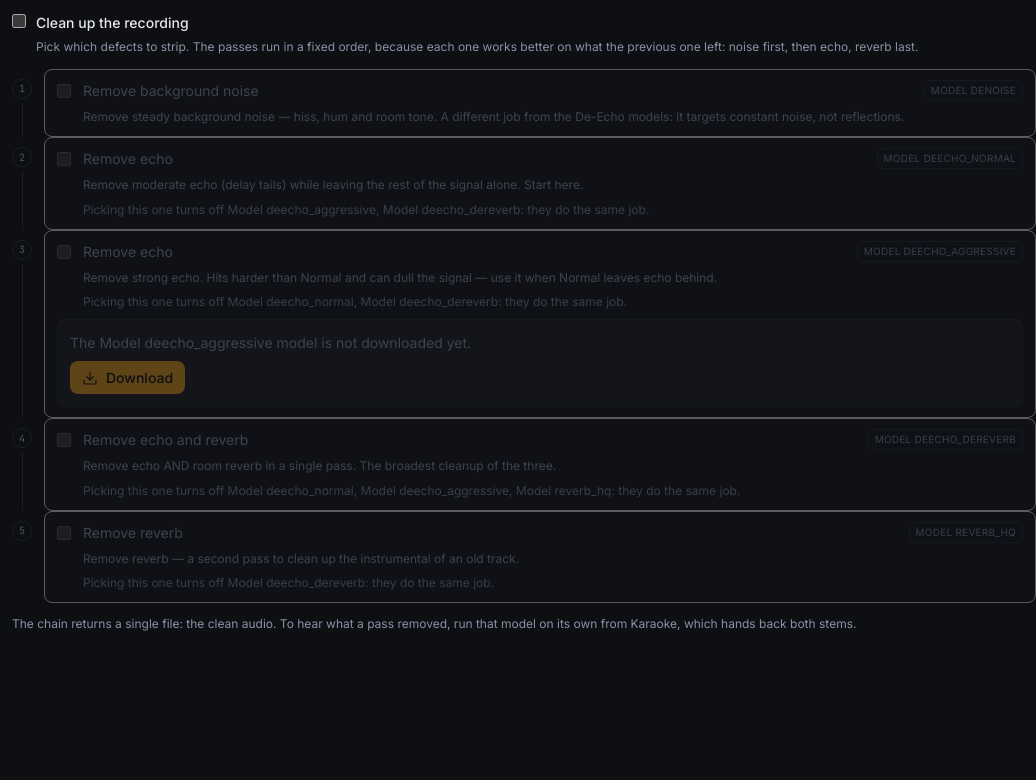
Test: CleanupChainPanel › warns from the third pass on, without blocking it
Click the checkbox labelled "Clean up the recording".
click(19, 21)  # box top-left (12, 14), bottom-right (26, 28)
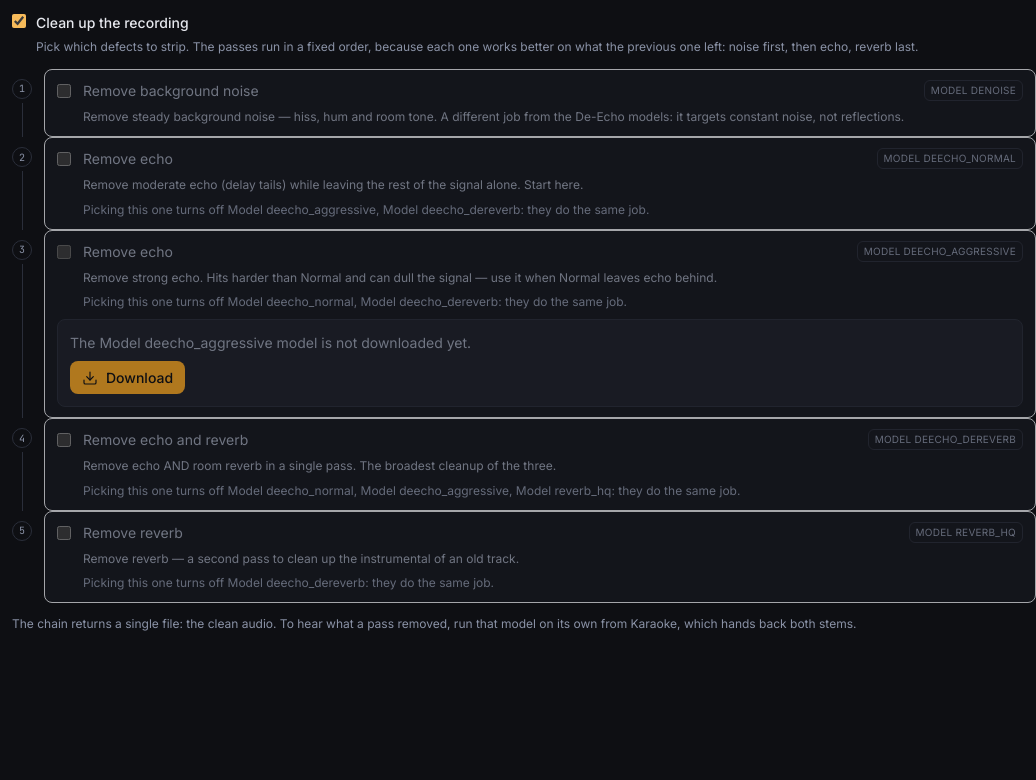
Click the checkbox labelled "Remove background noise Model denoise".
click(64, 90)  # box top-left (57, 84), bottom-right (71, 98)
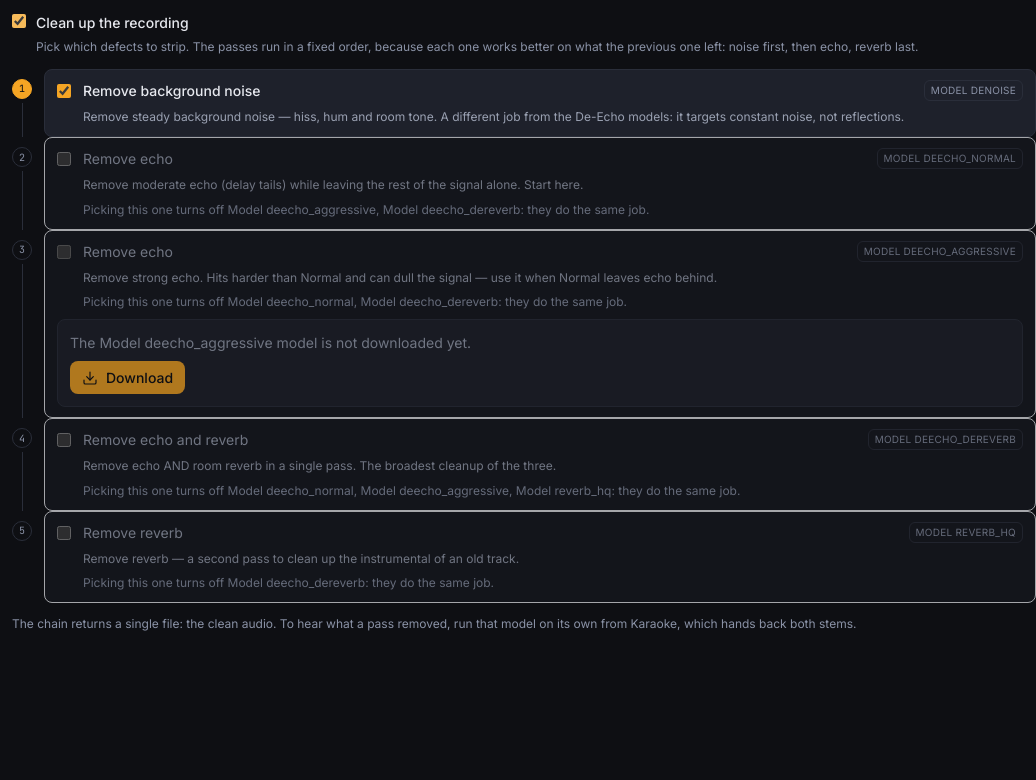
Click the checkbox labelled "Remove echo Model deecho_normal".
click(64, 159)  # box top-left (57, 152), bottom-right (71, 166)
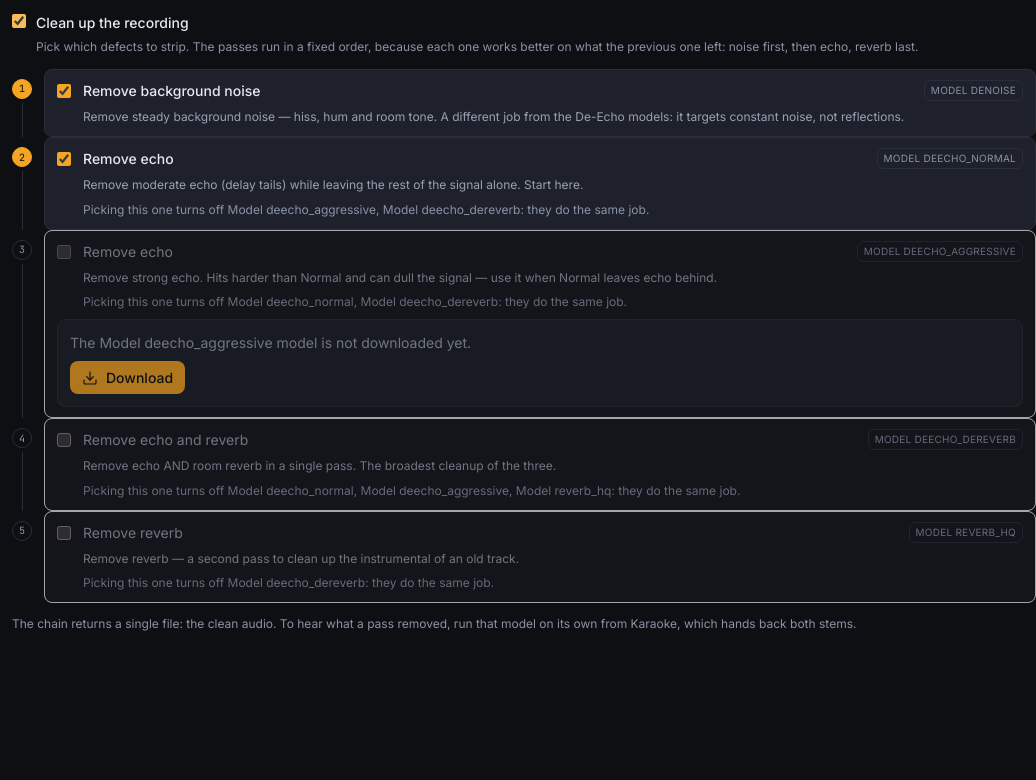
Click the checkbox labelled "Remove reverb Model reverb_hq".
click(64, 532)  # box top-left (57, 526), bottom-right (71, 540)
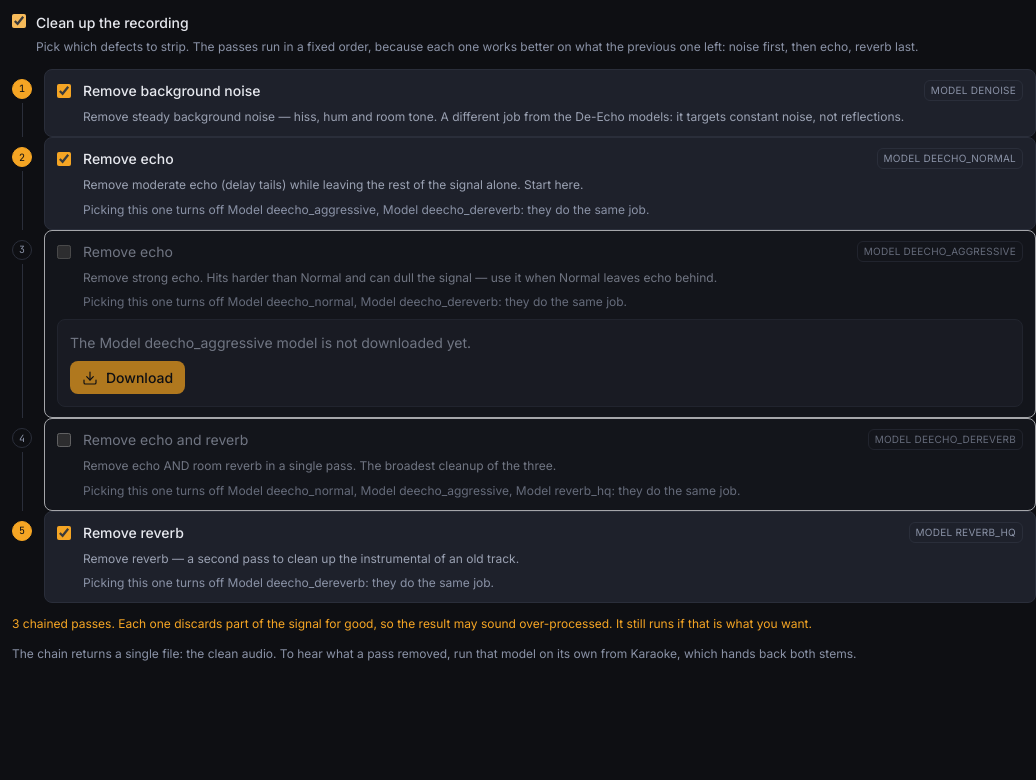
Check: the checkbox labelled "Remove background noise Model denoise" is checked, box top-left (57, 84), bottom-right (71, 98)
Check: the checkbox labelled "Remove echo Model deecho_normal" is checked, box top-left (57, 152), bottom-right (71, 166)
Check: the text "3 chained passes" is shown, box top-left (12, 616), bottom-right (812, 631)
